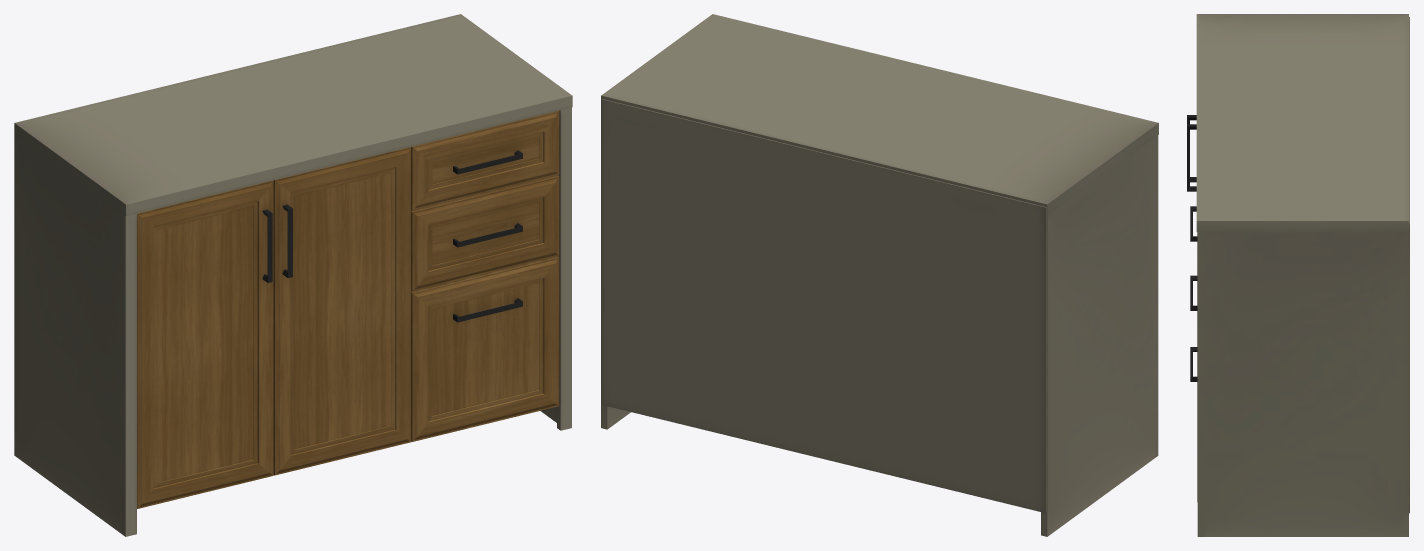
File: BALCAO120.glb
The picture shows the model from 3 angles, left to right: view 1: azimuth 30°, elevation 25°; view 2: azimuth 150°, elevation 25°; view 3: azimuth 270°, elevation 25°; orthographic projection. The views are drawn at different scales.
Visible parts, largest first — view 1: BALCAO120; view 2: BALCAO120; view 3: BALCAO120.
Part boxes in pixels (left/top/right/bottom): BALCAO120: left=14, top=14, right=572, bottom=536; BALCAO120: left=601, top=14, right=1158, bottom=536; BALCAO120: left=1187, top=14, right=1409, bottom=536.
Size of the model in its own units: 1.2 by 0.855 by 0.5463.
1 material, 1 textured.
